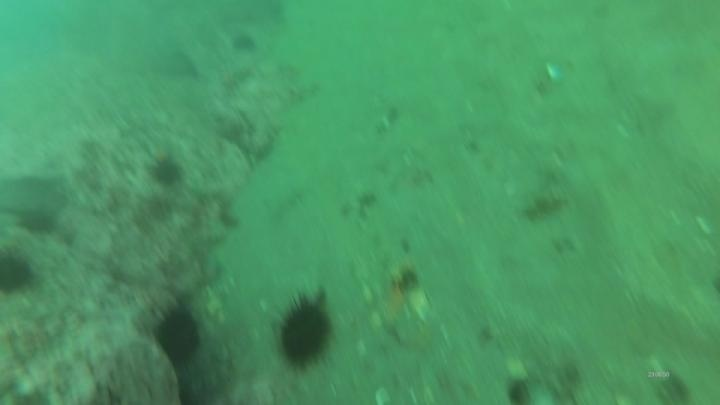echinus: (271, 291, 338, 373), (149, 301, 205, 370), (0, 247, 37, 299), (14, 204, 59, 238), (148, 155, 186, 190), (229, 30, 260, 57)
